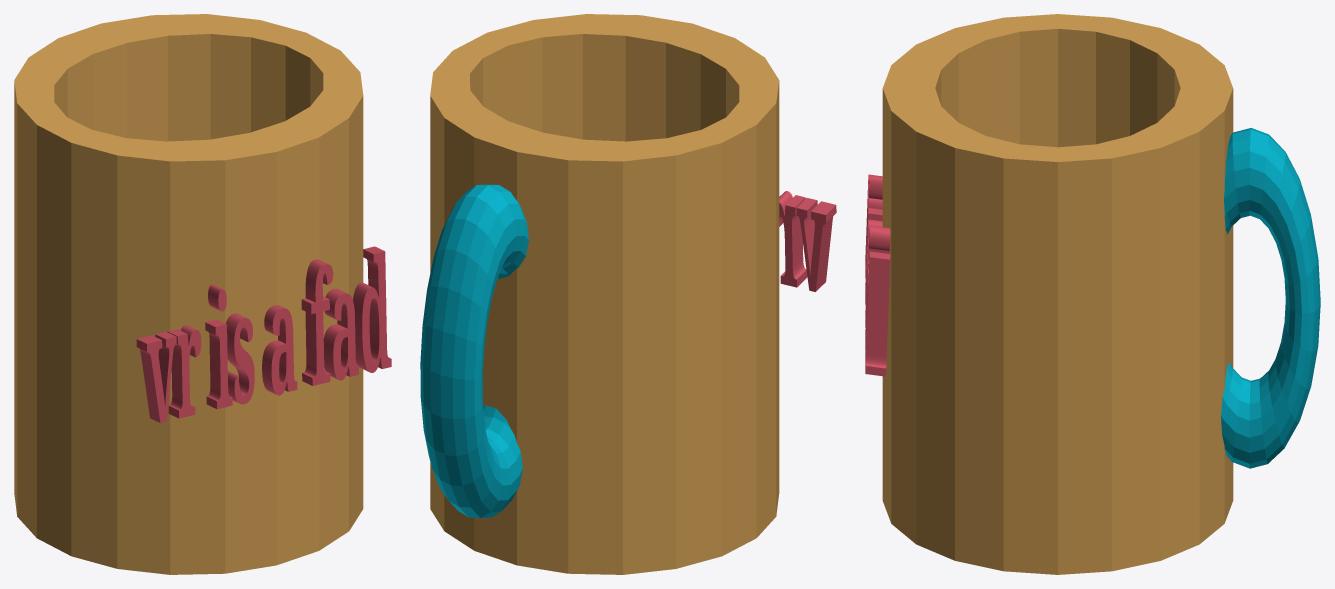
Rendered from og_cup.glb.
The picture shows the model from 3 angles, left to right: view 1: azimuth 30°, elevation 25°; view 2: azimuth 150°, elevation 25°; view 3: azimuth 270°, elevation 25°; orthographic projection.
Parts seen in each view (by area): view 1: Mesh_Mesh_head_geo.001_lambert2SG.001; view 2: Mesh_Mesh_head_geo.001_lambert2SG.001; view 3: Mesh_Mesh_head_geo.001_lambert2SG.001.
Part boxes in pixels (left/top/right/bottom): Mesh_Mesh_head_geo.001_lambert2SG.001: left=14, top=14, right=391, bottom=574; Mesh_Mesh_head_geo.001_lambert2SG.001: left=420, top=14, right=836, bottom=574; Mesh_Mesh_head_geo.001_lambert2SG.001: left=865, top=14, right=1320, bottom=574.
Size of the model in its own units: 20 by 26 by 26.
